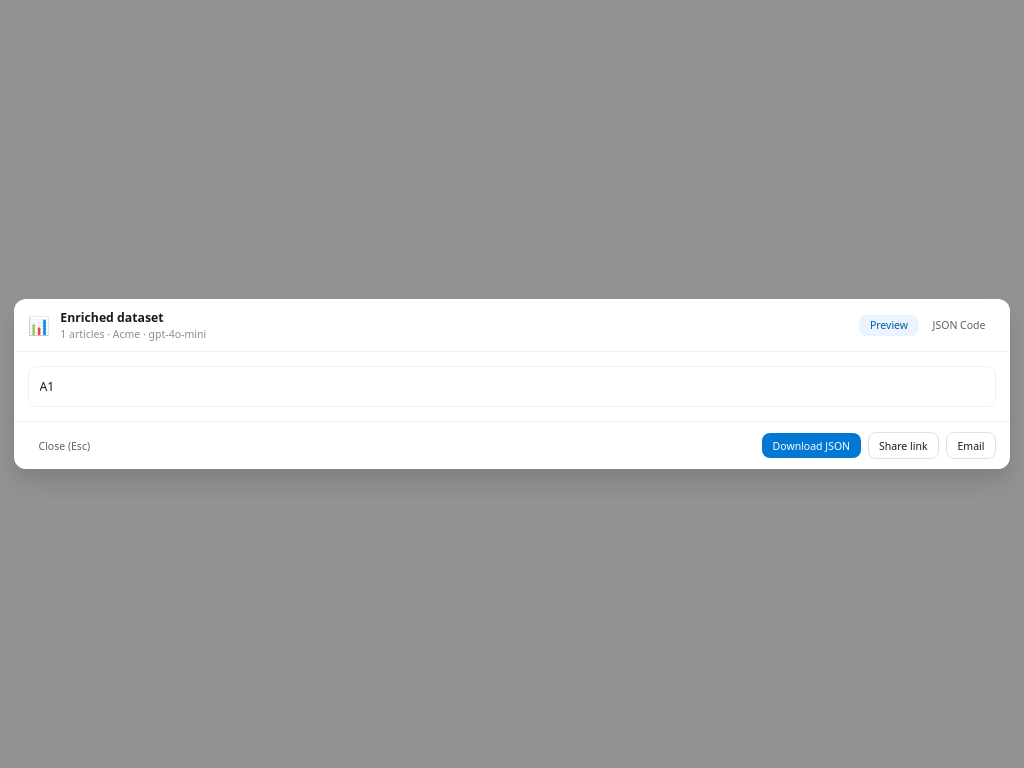
Test: ChipUpFullscreen › Share button copies a URL and shows the "Copied" affordance
This screenshot has width=1024, height=768.
Click the button with test id "chip-up-share-btn" at (903, 446), box [868, 432, 939, 459]
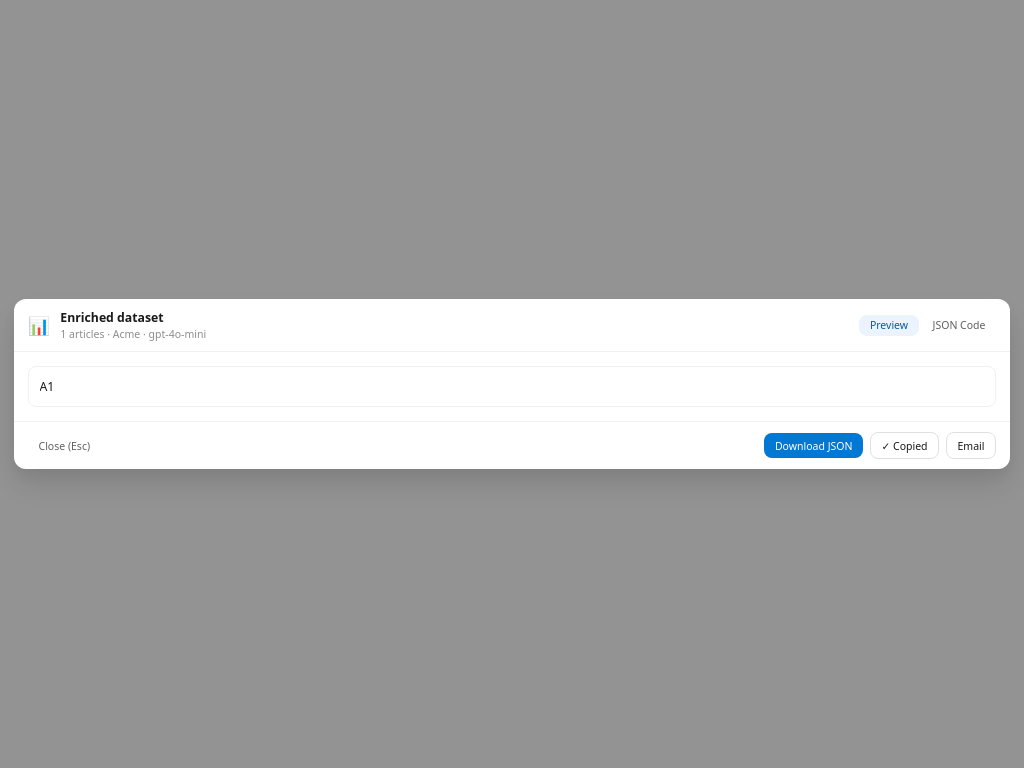
Expected: the button with test id "chip-up-share-btn" shows "Copied", [870, 432, 939, 459]
